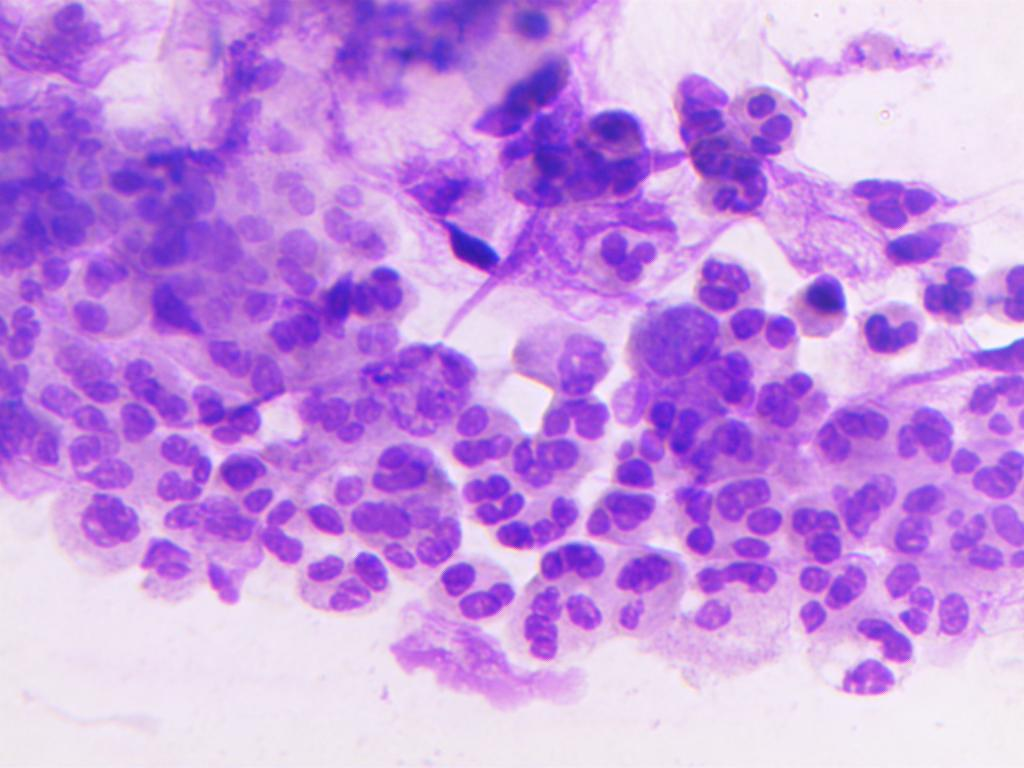artifact: (770, 16, 938, 79)
neutrophil: (511, 110, 661, 216), (367, 338, 488, 437), (0, 91, 123, 187), (196, 501, 302, 612), (791, 612, 916, 700), (679, 472, 794, 566), (499, 306, 614, 390), (0, 0, 119, 80), (676, 554, 785, 640), (114, 136, 216, 226), (189, 321, 292, 404), (881, 552, 978, 640), (56, 481, 141, 581), (230, 281, 329, 366), (55, 419, 147, 509), (369, 484, 469, 565), (296, 459, 385, 545), (785, 560, 874, 646), (519, 580, 604, 668), (62, 252, 152, 335), (948, 489, 1024, 586), (731, 78, 814, 162), (294, 549, 389, 622), (807, 390, 898, 466), (119, 358, 194, 448), (313, 184, 400, 258), (885, 468, 946, 570), (595, 212, 670, 294), (299, 380, 388, 448), (569, 478, 662, 542), (774, 269, 860, 337), (430, 553, 521, 616), (267, 221, 334, 306), (855, 178, 952, 236), (44, 180, 118, 255), (722, 294, 796, 369), (959, 362, 1024, 446), (33, 370, 121, 432), (923, 250, 984, 336), (739, 368, 826, 428), (333, 268, 422, 326), (529, 390, 620, 446), (135, 520, 202, 596), (143, 425, 211, 499), (367, 436, 442, 503), (647, 382, 708, 464), (779, 496, 850, 566), (858, 295, 926, 368), (7, 266, 57, 364), (692, 247, 767, 311), (195, 388, 270, 452), (209, 446, 286, 504), (453, 404, 518, 470), (895, 398, 956, 468), (461, 466, 524, 530), (973, 440, 1024, 506), (617, 546, 678, 600), (277, 170, 322, 220)
